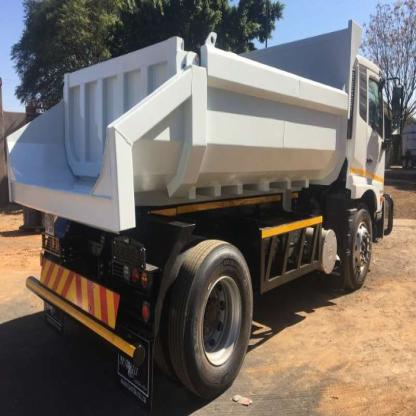dump_truck: (11, 20, 397, 403)
